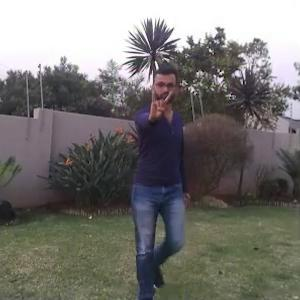takeoff-hand: (141, 82, 179, 125)
